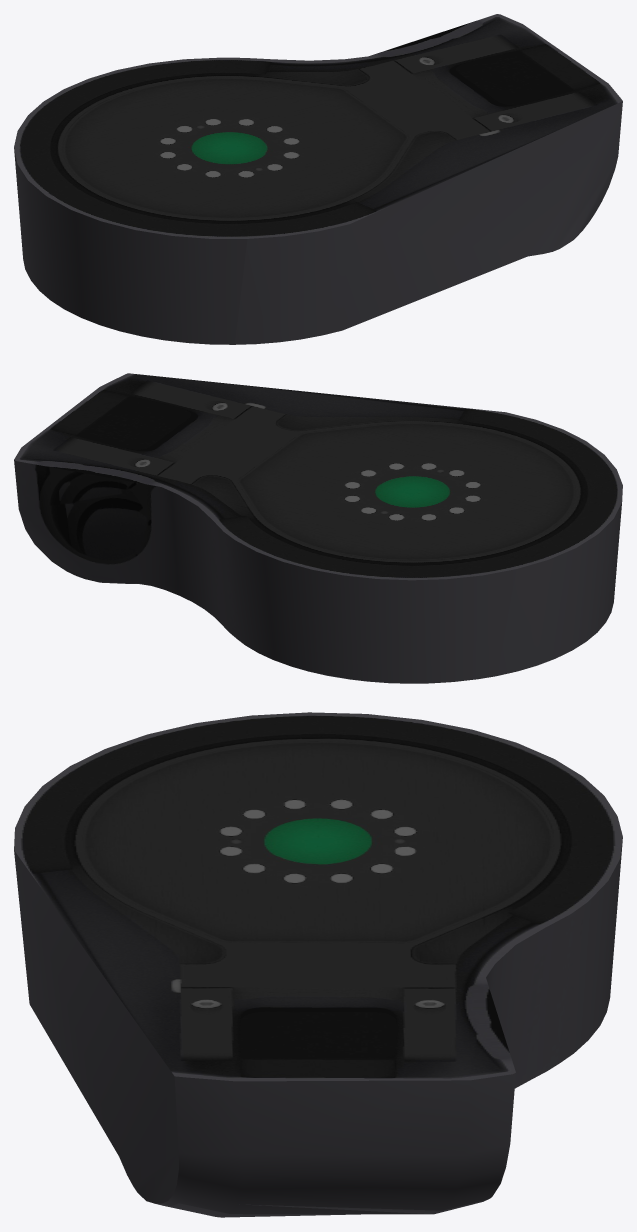
File: shank_r.obj
3 renders of one model, top to bottom at view 1: azimuth 30°, elevation 25°; view 2: azimuth 150°, elevation 25°; view 3: azimuth 270°, elevation 25°, orthographic. The views are drawn at different scales.
Size of the model in its own units: 0.2038 by 0.0469 by 0.1418.
